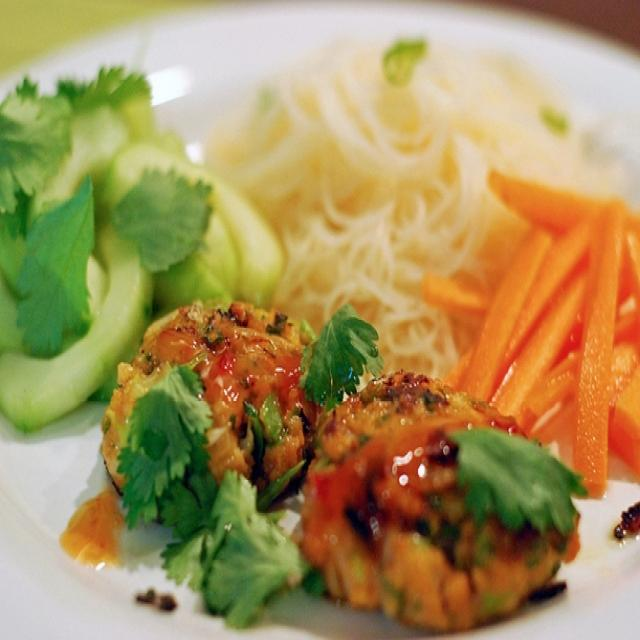面条主食: (5, 13, 628, 618)
